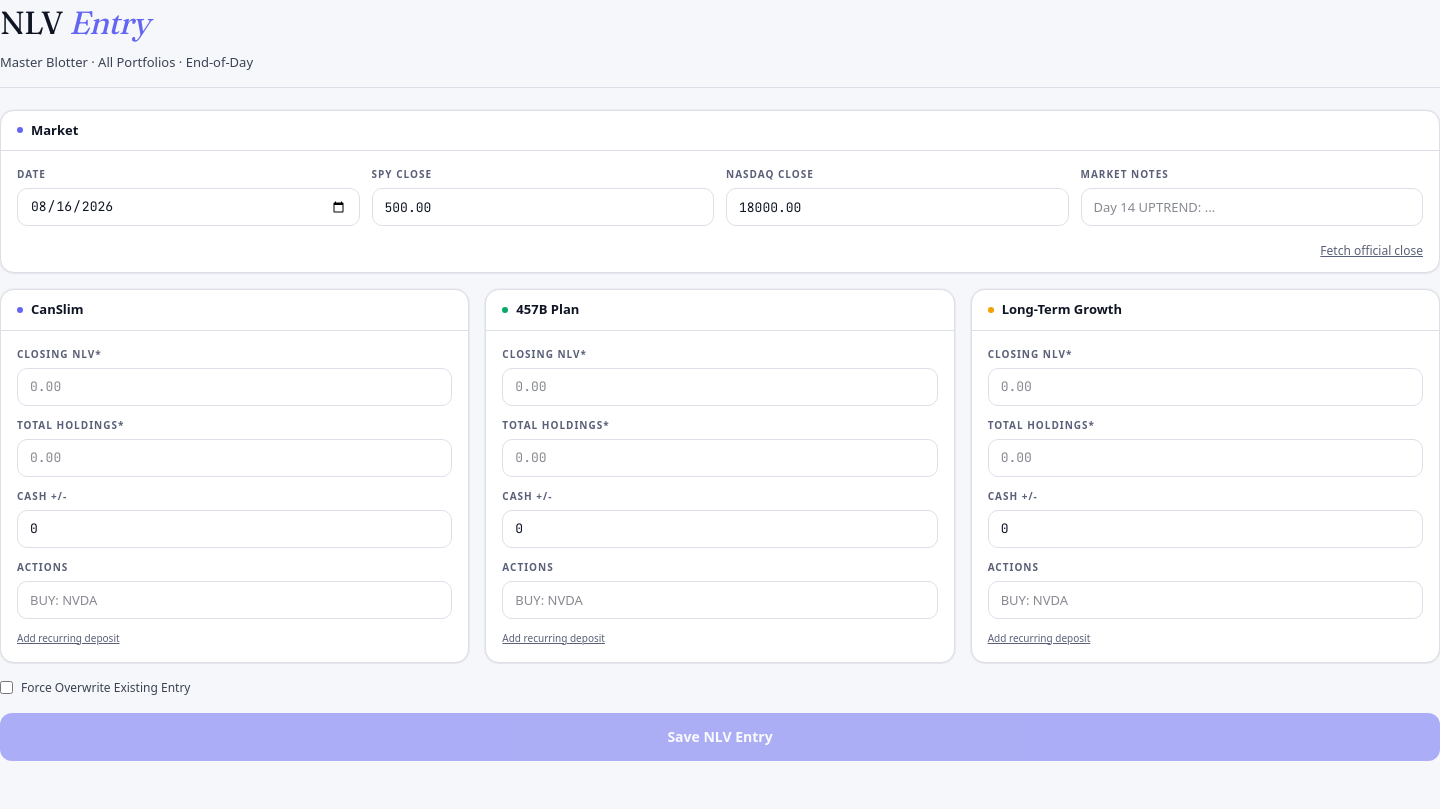
Test case: NLVEntry — save handler › renders conflict banner on 409 with conflicting_portfolios list
Check: the element with test id "portfolio-card-CanSlim" is shown, box [0,289,469,662]
In the number field with test id "nlv-input-CanSlim": coordinates (235, 386) [17,368,452,406], type "100000"
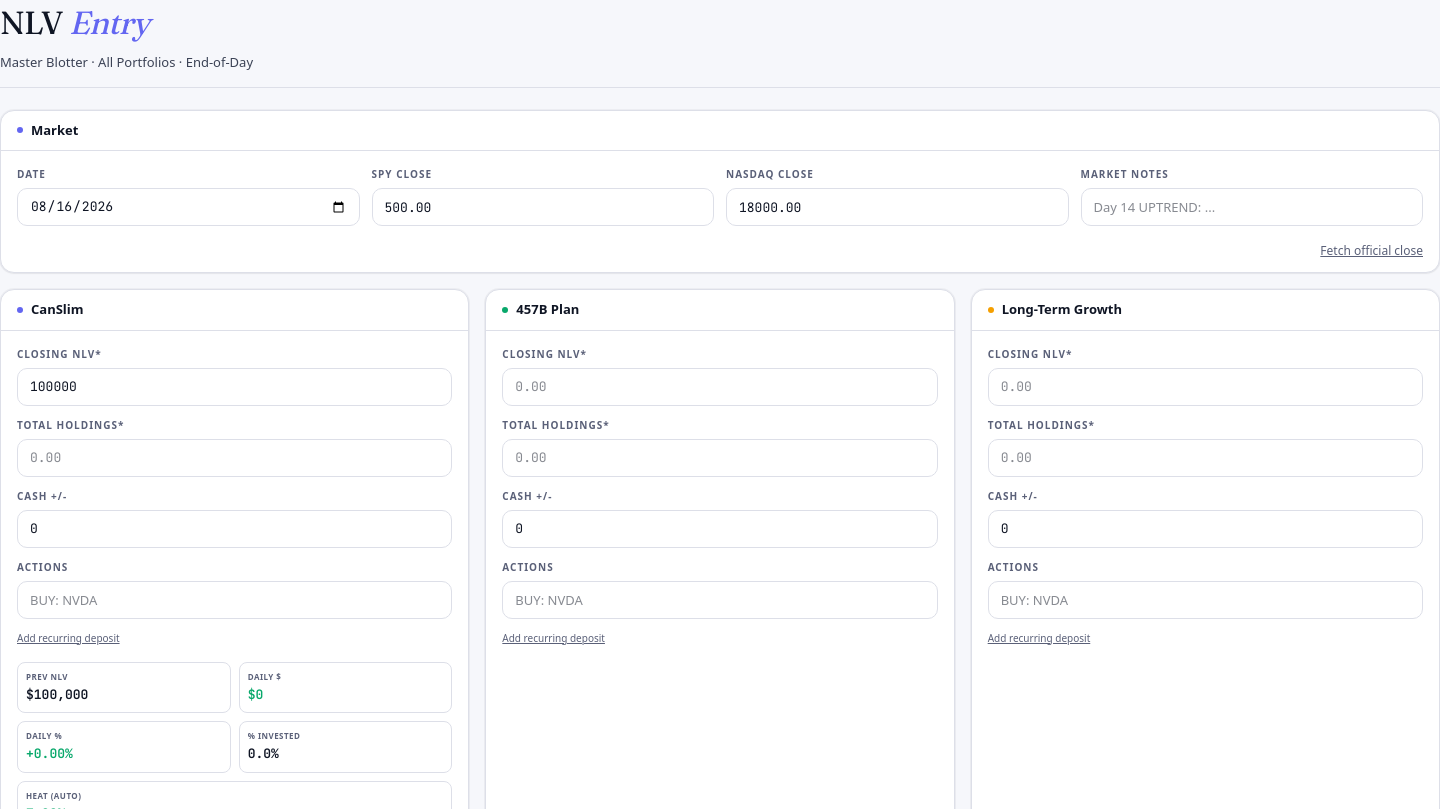
In the number field with test id "holdings-input-CanSlim": coordinates (235, 458) [17,438,452,476], type "90000"
In the number field with test id "nlv-input-457B Plan": coordinates (720, 386) [502,368,938,406], type "100000"
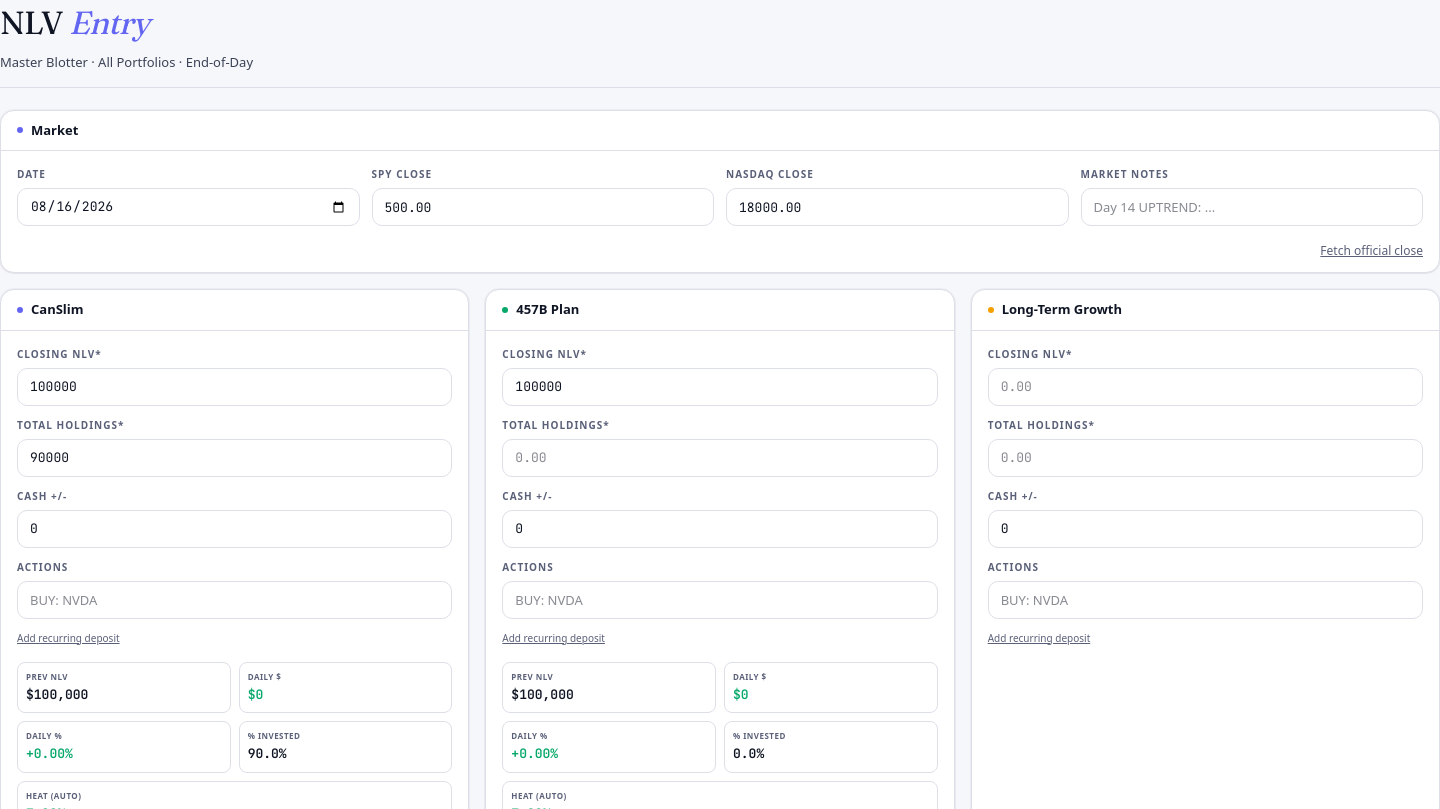
In the number field with placeholder "0.00" below "457B Plan": coordinates (720, 458) [502,438,938,476], type "90000"
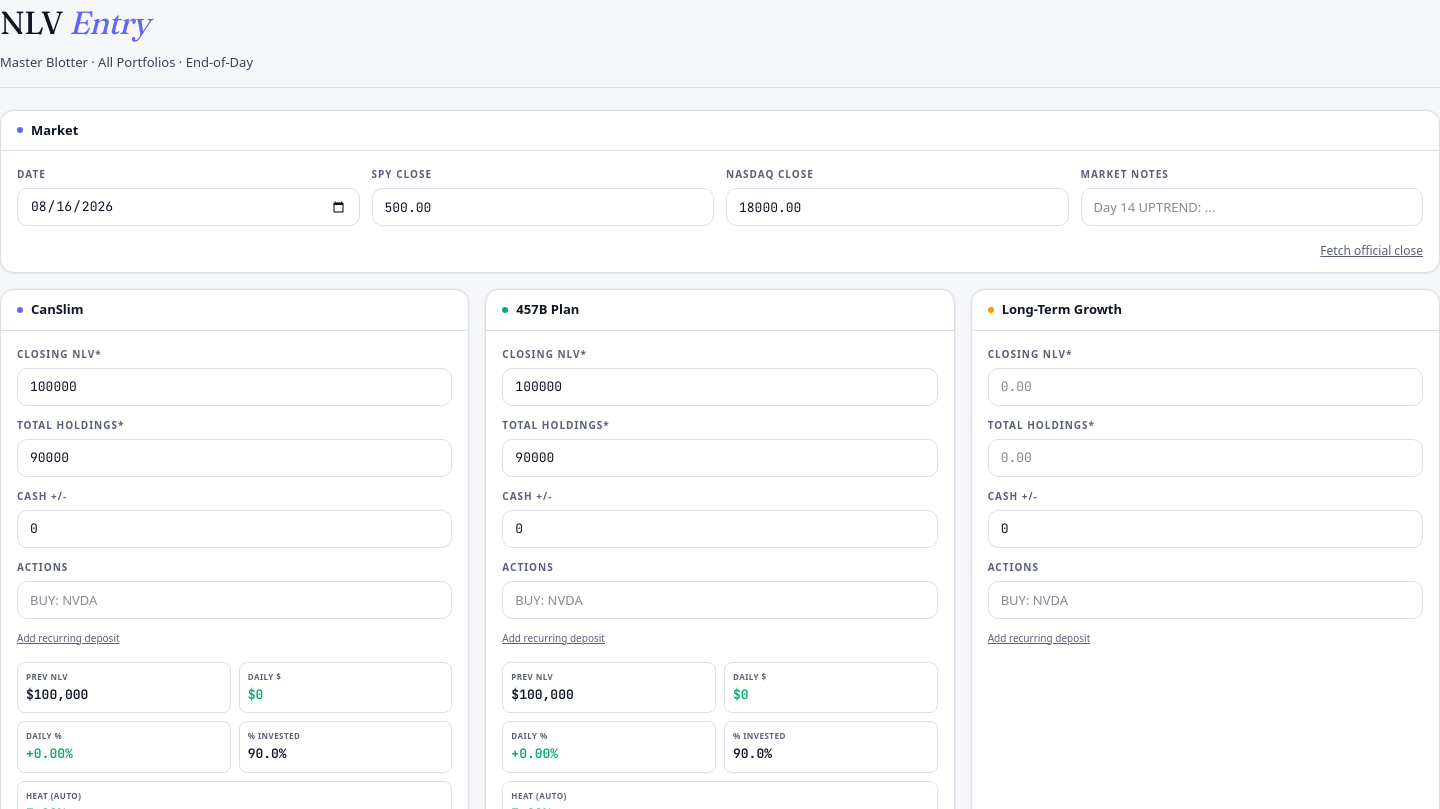
In the 1st number field with placeholder "0.00": coordinates (1205, 386) [988,368,1423,406], type "100000"
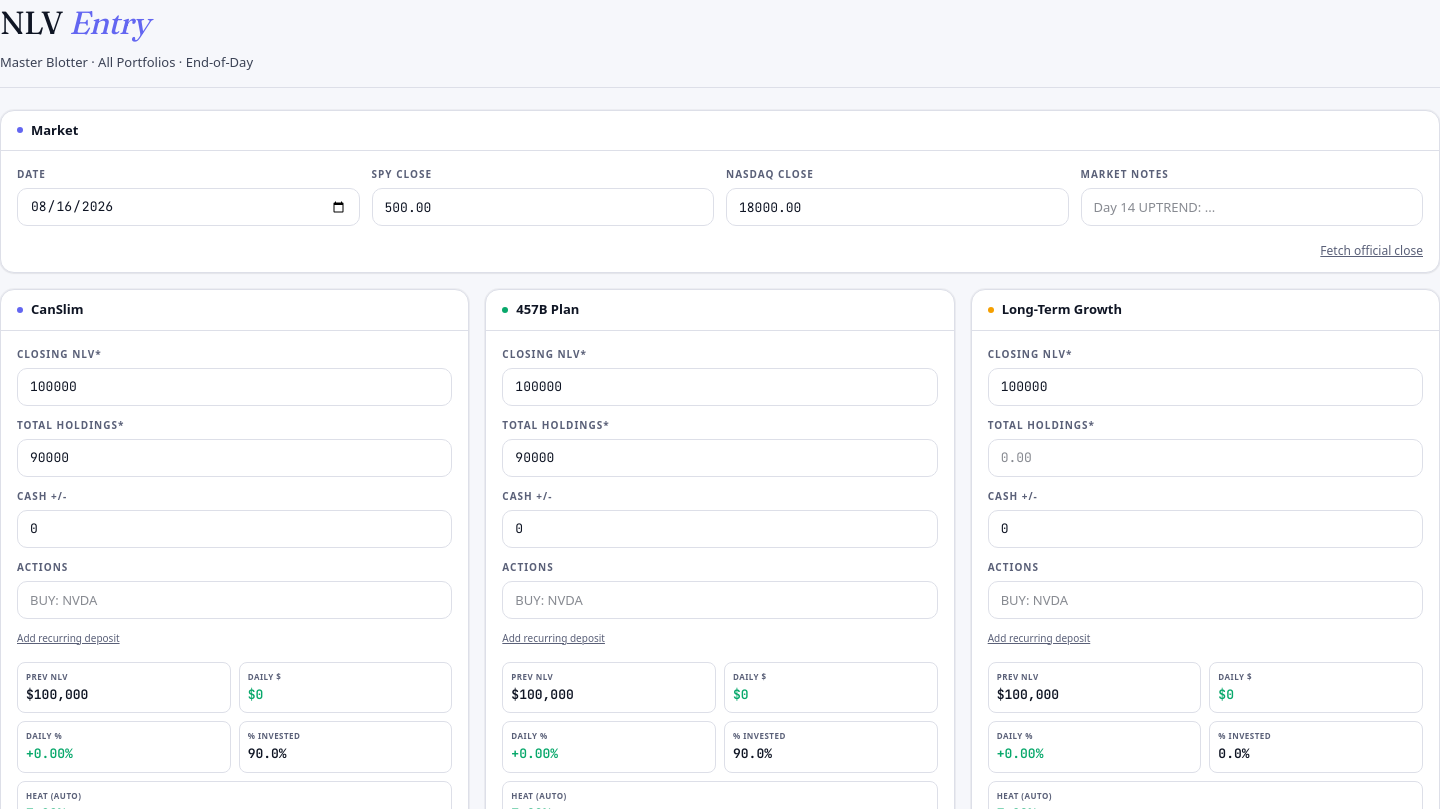
In the number field with placeholder "0.00": coordinates (1205, 458) [988,438,1423,476], type "90000"
(page scrolled)
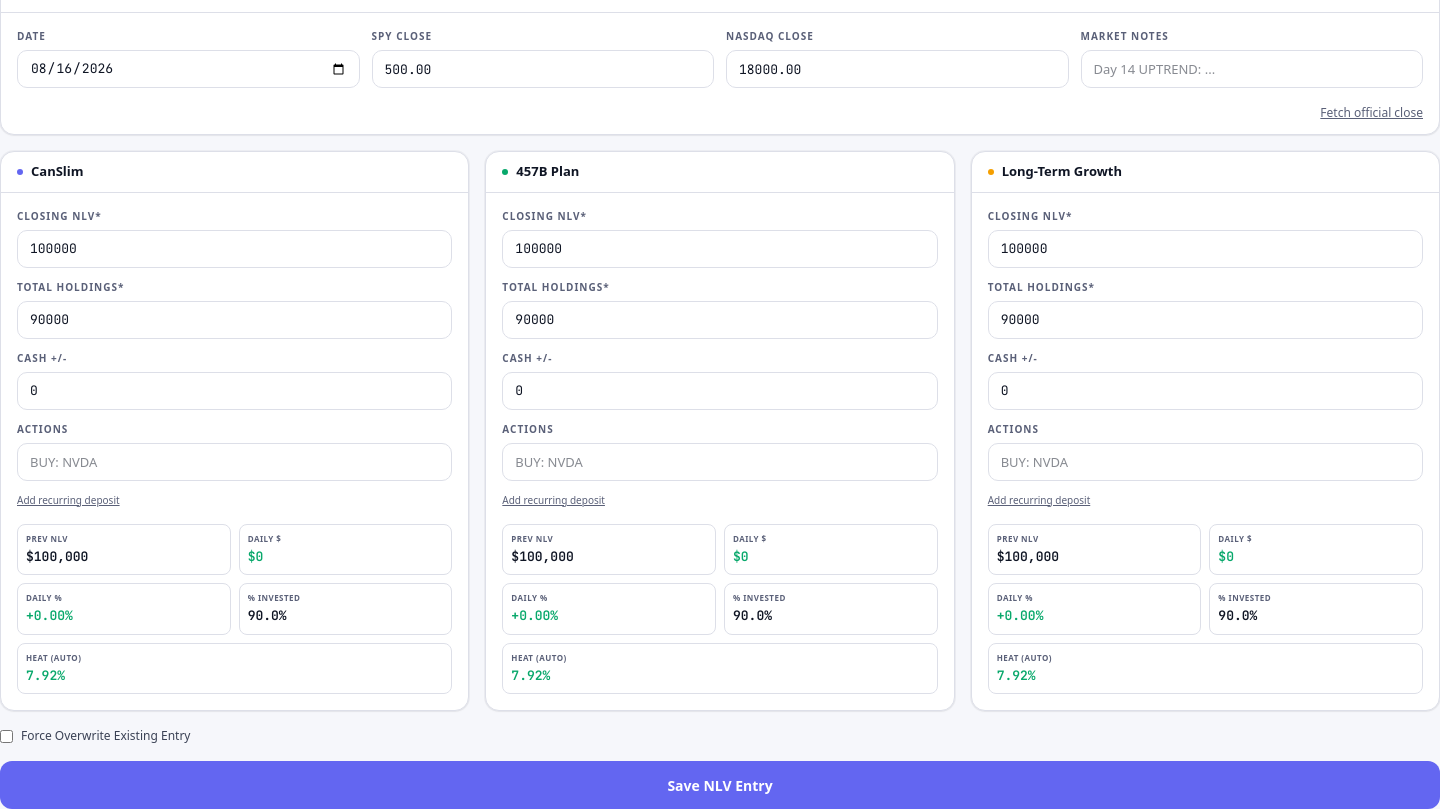
Click the button with test id "save-button": coordinates (720, 785) [0,761,1439,808]
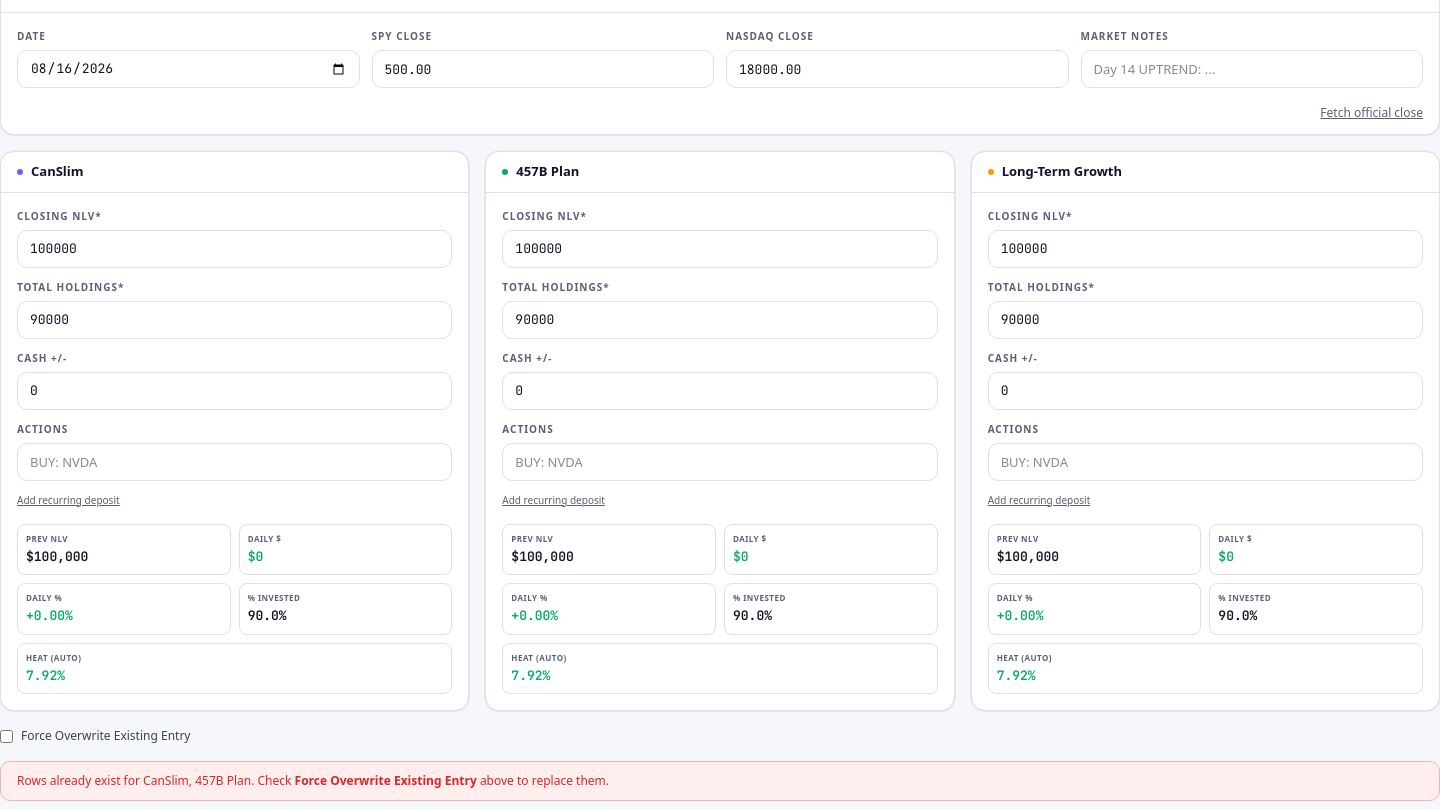
Check: the message with test id "conflict-banner" shows "CanSlim, 457B Plan", box [143,772,251,789]
Check: the message with test id "conflict-banner" shows "Force Overwrite", box [292,772,480,789]
